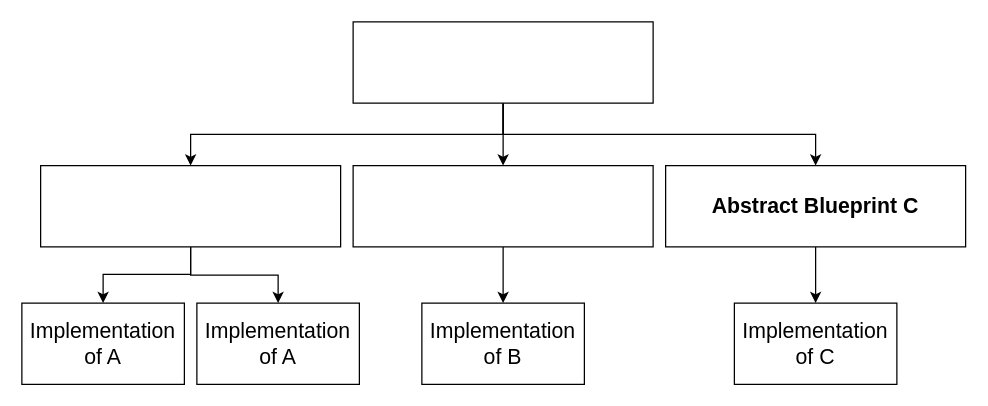
Image size: 988x406. Some labels were removed from this diagram. Each missing label, with the box of its shape:
Abstract Blueprint A: (39, 164, 341, 247)
Abstract Blueprint B: (352, 164, 653, 247)
MM Base Component: (352, 21, 653, 103)
